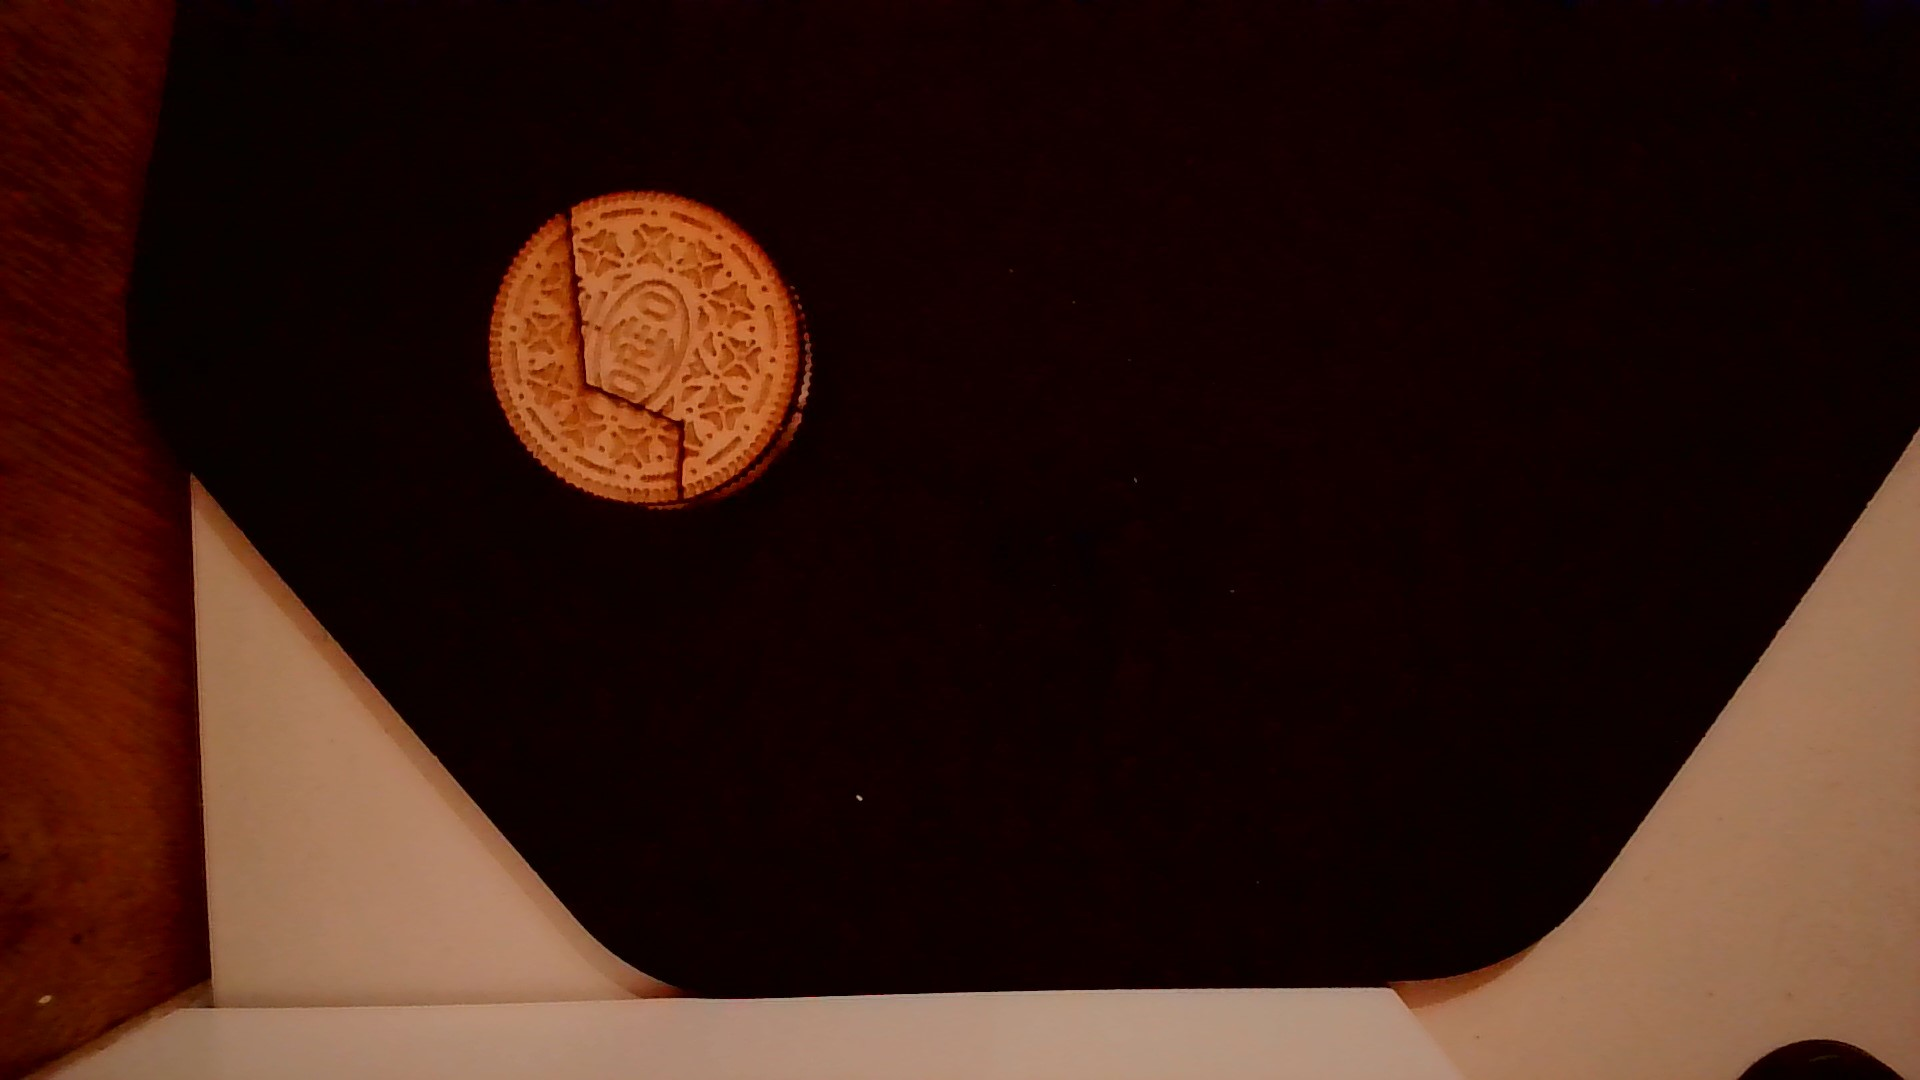Fissure: (549, 200, 694, 512)
Oréo: (479, 179, 823, 517)
